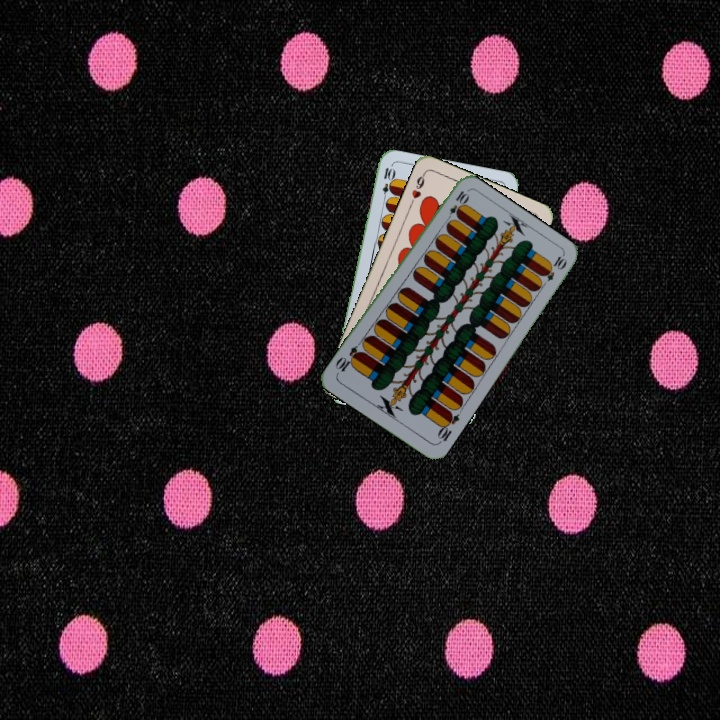E10: (433, 407, 462, 446), (442, 187, 471, 225), (378, 164, 396, 204)
H9: (406, 169, 428, 208)
